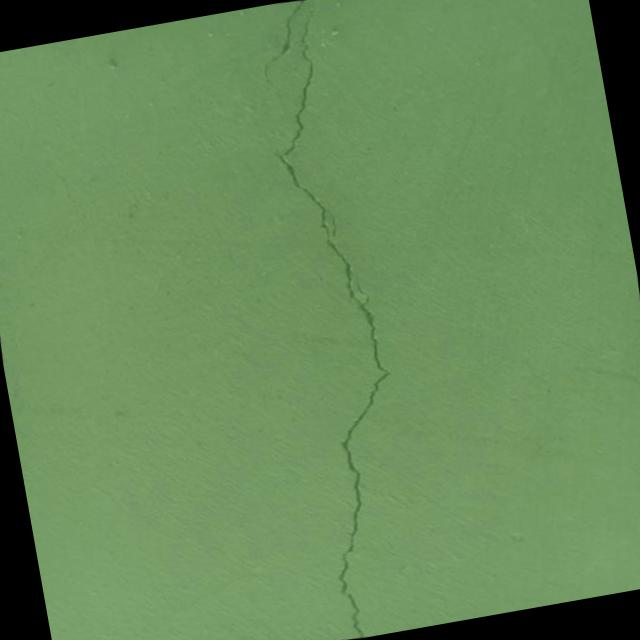crack: (225, 0, 455, 640), (249, 0, 322, 111)
